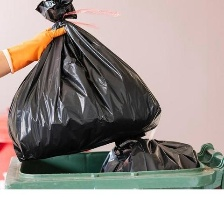plastic_bag: (0, 0, 163, 166), (95, 120, 205, 177)
